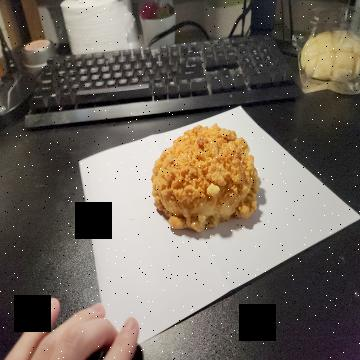soboru_bread: (150, 125, 257, 233)
